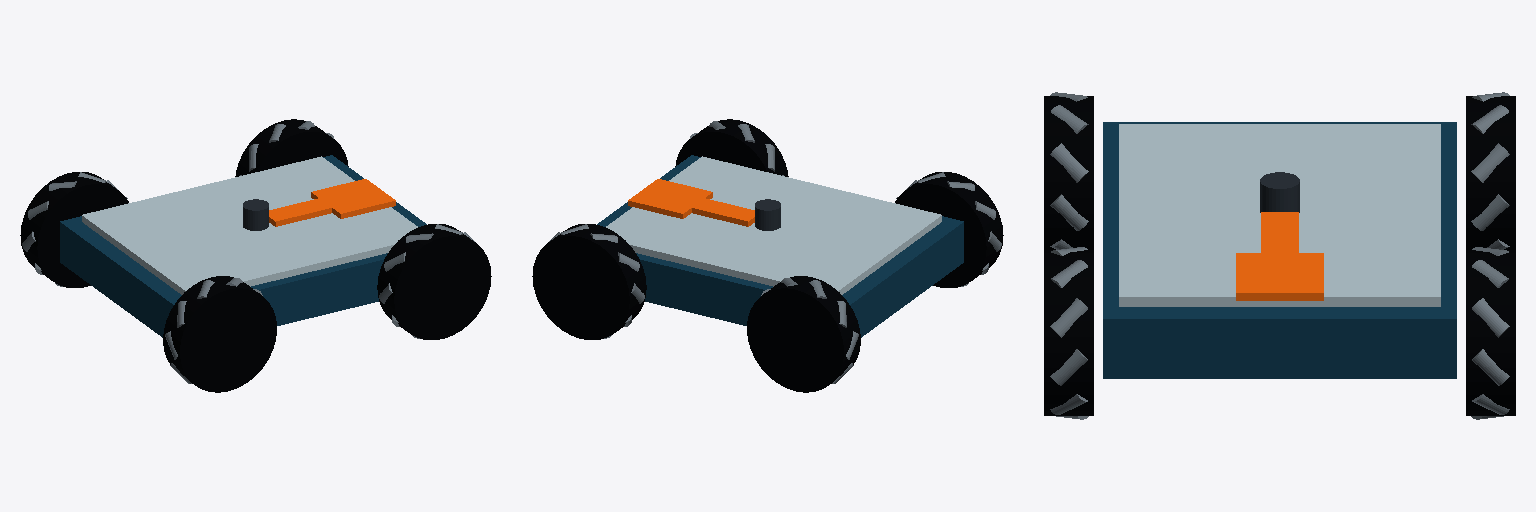
URDF robot description (robocon_physics_base):
<?xml version='1.0' encoding='utf-8'?>
<!--
  纯物理底盘（不可见）：四轮麦轮 + 悬挂，供 MuJoCo 和 TF 使用。
  可视外观由 models/br + urdf/br_display.urdf 提供；本文件不参与 RViz RobotModel 显示。
  物理参数沿用上游 slam_simulation 的等效麦轮模型。
-->
<robot name="robocon_physics_base">
  <link name="base_link">
    <inertial>
      <origin xyz="0 0 0.08" />
      <mass value="8.0" />
      <inertia ixx="0.1" iyy="0.16" izz="0.22" ixy="0" ixz="0" iyz="0" />
    </inertial>
    <visual>
      <origin xyz="0 0 0.08" rpy="0 0 0" />
      <geometry>
        <box size="0.42 0.32 0.06" />
      </geometry>
      <material name="paint_base_link_2">
        <color rgba="0.1 0.27 0.36 1" />
      </material>
    </visual>
    <collision>
      <origin xyz="0 0 0.08" rpy="0 0 0" />
      <geometry>
        <box size="0.42 0.32 0.06" />
      </geometry>
    </collision>
    <visual>
      <origin xyz="0 0 0.115" rpy="0 0 0" />
      <geometry>
        <box size="0.37 0.29 0.01" />
      </geometry>
      <material name="paint_base_link_4">
        <color rgba="0.72 0.79 0.82 1" />
      </material>
    </visual>
    <visual>
      <origin xyz="0.15 0 0.124" rpy="0 0 0" />
      <geometry>
        <box size="0.085 0.08 0.008" />
      </geometry>
      <material name="paint_base_link_5">
        <color rgba="1 0.45 0.08 1" />
      </material>
    </visual>
    <visual>
      <origin xyz="0.08 0 0.124" rpy="0 0 0" />
      <geometry>
        <box size="0.12 0.035 0.008" />
      </geometry>
      <material name="paint_base_link_6">
        <color rgba="1 0.45 0.08 1" />
      </material>
    </visual>
  </link>
  <link name="sensor_mast">
    <inertial>
      <origin xyz="0 0 0" />
      <mass value="0.05" />
      <inertia ixx="0.001" iyy="0.001" izz="0.001" ixy="0" ixz="0" iyz="0" />
    </inertial>
    <visual>
      <origin xyz="0 0 0" rpy="0 0 0" />
      <geometry>
        <cylinder radius="0.018" length="0.04" />
      </geometry>
      <material name="paint_sensor_mast_2">
        <color rgba="0.18 0.21 0.24 1" />
      </material>
    </visual>
  </link>
  <joint name="mast_mount" type="fixed">
    <parent link="base_link" />
    <child link="sensor_mast" />
    <origin xyz="0 0 0.13" rpy="0 0 0" />
  </joint>
  <link name="imu_link">
    <inertial>
      <origin xyz="0 0 0" />
      <mass value="0.01" />
      <inertia ixx="0.001" iyy="0.001" izz="0.001" ixy="0" ixz="0" iyz="0" />
    </inertial>
  </link>
  <joint name="imu_mount" type="fixed">
    <parent link="base_link" />
    <child link="imu_link" />
    <origin xyz="0 0 0.15" rpy="0 0 0" />
  </joint>
  <link name="lidar_link">
    <inertial>
      <origin xyz="0 0 0" />
      <mass value="0.265" />
      <inertia ixx="0.001" iyy="0.001" izz="0.001" ixy="0" ixz="0" iyz="0" />
    </inertial>
    <!-- 纯物理底盘：雷达外观由 br 的 meshes_sim 显示，这里不再加载 7MB 的 MID-360
         mesh；lidar_link 只保留 TF/惯性，供桥接和 TF 树使用。 -->
  </link>
  <joint name="lidar_mount" type="fixed">
    <parent link="imu_link" />
    <child link="lidar_link" />
    <origin xyz="0 0 0" rpy="0 0 0" />
  </joint>
  <link name="front_left_wheel">
    <inertial>
      <origin xyz="0 0 0" />
      <mass value="0.3" />
      <inertia ixx="0.0006" iyy="0.001" izz="0.0006" ixy="0" ixz="0" iyz="0" />
    </inertial>
    <visual>
      <origin xyz="0 0 0" rpy="1.5707963 0 0" />
      <geometry>
        <cylinder radius="0.075" length="0.045" />
      </geometry>
      <material name="paint_front_left_wheel_2">
        <color rgba="0.035 0.04 0.05 1" />
      </material>
    </visual>
    <collision>
      <origin xyz="0 0 0" rpy="1.5707963 0 0" />
      <geometry>
        <cylinder radius="0.075" length="0.045" />
      </geometry>
    </collision>
    <visual>
      <origin xyz="0.067 0 0" rpy="0.78539816 0 0" />
      <geometry>
        <cylinder radius="0.01" length="0.036" />
      </geometry>
      <material name="paint_front_left_wheel_4">
        <color rgba="0.45 0.49 0.52 1" />
      </material>
    </visual>
    <visual>
      <origin xyz="0.054204139 0 0.039381612" rpy="0.78539816 -0.62831853 0" />
      <geometry>
        <cylinder radius="0.01" length="0.036" />
      </geometry>
      <material name="paint_front_left_wheel_5">
        <color rgba="0.45 0.49 0.52 1" />
      </material>
    </visual>
    <visual>
      <origin xyz="0.020704139 0 0.063720787" rpy="0.78539816 -1.2566371 5.5511151e-17" />
      <geometry>
        <cylinder radius="0.01" length="0.036" />
      </geometry>
      <material name="paint_front_left_wheel_6">
        <color rgba="0.45 0.49 0.52 1" />
      </material>
    </visual>
    <visual>
      <origin xyz="-0.020704139 0 0.063720787" rpy="-2.3561945 -1.2566371 -3.1415927" />
      <geometry>
        <cylinder radius="0.01" length="0.036" />
      </geometry>
      <material name="paint_front_left_wheel_7">
        <color rgba="0.45 0.49 0.52 1" />
      </material>
    </visual>
    <visual>
      <origin xyz="-0.054204139 0 0.039381612" rpy="-2.3561945 -0.62831853 -3.1415927" />
      <geometry>
        <cylinder radius="0.01" length="0.036" />
      </geometry>
      <material name="paint_front_left_wheel_8">
        <color rgba="0.45 0.49 0.52 1" />
      </material>
    </visual>
    <visual>
      <origin xyz="-0.067 0 8.2051336e-18" rpy="-2.3561945 0 -3.1415927" />
      <geometry>
        <cylinder radius="0.01" length="0.036" />
      </geometry>
      <material name="paint_front_left_wheel_9">
        <color rgba="0.45 0.49 0.52 1" />
      </material>
    </visual>
    <visual>
      <origin xyz="-0.054204139 0 -0.039381612" rpy="-2.3561945 0.62831853 -3.1415927" />
      <geometry>
        <cylinder radius="0.01" length="0.036" />
      </geometry>
      <material name="paint_front_left_wheel_10">
        <color rgba="0.45 0.49 0.52 1" />
      </material>
    </visual>
    <visual>
      <origin xyz="-0.020704139 0 -0.063720787" rpy="-2.3561945 1.2566371 3.1415927" />
      <geometry>
        <cylinder radius="0.01" length="0.036" />
      </geometry>
      <material name="paint_front_left_wheel_11">
        <color rgba="0.45 0.49 0.52 1" />
      </material>
    </visual>
    <visual>
      <origin xyz="0.020704139 0 -0.063720787" rpy="0.78539816 1.2566371 2.220446e-16" />
      <geometry>
        <cylinder radius="0.01" length="0.036" />
      </geometry>
      <material name="paint_front_left_wheel_12">
        <color rgba="0.45 0.49 0.52 1" />
      </material>
    </visual>
    <visual>
      <origin xyz="0.054204139 0 -0.039381612" rpy="0.78539816 0.62831853 -5.5511151e-17" />
      <geometry>
        <cylinder radius="0.01" length="0.036" />
      </geometry>
      <material name="paint_front_left_wheel_13">
        <color rgba="0.45 0.49 0.52 1" />
      </material>
    </visual>
  </link>
  <joint name="front_left_wheel_joint" type="continuous">
    <parent link="base_link" />
    <child link="front_left_wheel" />
    <origin xyz="0.165 0.19 0.075" rpy="0 0 0" />
    <axis xyz="0 1 0" />
    <limit effort="2" velocity="15" />
  </joint>
  <link name="front_right_wheel">
    <inertial>
      <origin xyz="0 0 0" />
      <mass value="0.3" />
      <inertia ixx="0.0006" iyy="0.001" izz="0.0006" ixy="0" ixz="0" iyz="0" />
    </inertial>
    <visual>
      <origin xyz="0 0 0" rpy="1.5707963 0 0" />
      <geometry>
        <cylinder radius="0.075" length="0.045" />
      </geometry>
      <material name="paint_front_right_wheel_2">
        <color rgba="0.035 0.04 0.05 1" />
      </material>
    </visual>
    <collision>
      <origin xyz="0 0 0" rpy="1.5707963 0 0" />
      <geometry>
        <cylinder radius="0.075" length="0.045" />
      </geometry>
    </collision>
    <visual>
      <origin xyz="0.067 0 0" rpy="-0.78539816 0 0" />
      <geometry>
        <cylinder radius="0.01" length="0.036" />
      </geometry>
      <material name="paint_front_right_wheel_4">
        <color rgba="0.45 0.49 0.52 1" />
      </material>
    </visual>
    <visual>
      <origin xyz="0.054204139 0 0.039381612" rpy="-0.78539816 -0.62831853 0" />
      <geometry>
        <cylinder radius="0.01" length="0.036" />
      </geometry>
      <material name="paint_front_right_wheel_5">
        <color rgba="0.45 0.49 0.52 1" />
      </material>
    </visual>
    <visual>
      <origin xyz="0.020704139 0 0.063720787" rpy="-0.78539816 -1.2566371 -5.5511151e-17" />
      <geometry>
        <cylinder radius="0.01" length="0.036" />
      </geometry>
      <material name="paint_front_right_wheel_6">
        <color rgba="0.45 0.49 0.52 1" />
      </material>
    </visual>
    <visual>
      <origin xyz="-0.020704139 0 0.063720787" rpy="2.3561945 -1.2566371 3.1415927" />
      <geometry>
        <cylinder radius="0.01" length="0.036" />
      </geometry>
      <material name="paint_front_right_wheel_7">
        <color rgba="0.45 0.49 0.52 1" />
      </material>
    </visual>
    <visual>
      <origin xyz="-0.054204139 0 0.039381612" rpy="2.3561945 -0.62831853 3.1415927" />
      <geometry>
        <cylinder radius="0.01" length="0.036" />
      </geometry>
      <material name="paint_front_right_wheel_8">
        <color rgba="0.45 0.49 0.52 1" />
      </material>
    </visual>
    <visual>
      <origin xyz="-0.067 0 8.2051336e-18" rpy="2.3561945 0 3.1415927" />
      <geometry>
        <cylinder radius="0.01" length="0.036" />
      </geometry>
      <material name="paint_front_right_wheel_9">
        <color rgba="0.45 0.49 0.52 1" />
      </material>
    </visual>
    <visual>
      <origin xyz="-0.054204139 0 -0.039381612" rpy="2.3561945 0.62831853 3.1415927" />
      <geometry>
        <cylinder radius="0.01" length="0.036" />
      </geometry>
      <material name="paint_front_right_wheel_10">
        <color rgba="0.45 0.49 0.52 1" />
      </material>
    </visual>
    <visual>
      <origin xyz="-0.020704139 0 -0.063720787" rpy="2.3561945 1.2566371 -3.1415927" />
      <geometry>
        <cylinder radius="0.01" length="0.036" />
      </geometry>
      <material name="paint_front_right_wheel_11">
        <color rgba="0.45 0.49 0.52 1" />
      </material>
    </visual>
    <visual>
      <origin xyz="0.020704139 0 -0.063720787" rpy="-0.78539816 1.2566371 -2.220446e-16" />
      <geometry>
        <cylinder radius="0.01" length="0.036" />
      </geometry>
      <material name="paint_front_right_wheel_12">
        <color rgba="0.45 0.49 0.52 1" />
      </material>
    </visual>
    <visual>
      <origin xyz="0.054204139 0 -0.039381612" rpy="-0.78539816 0.62831853 5.5511151e-17" />
      <geometry>
        <cylinder radius="0.01" length="0.036" />
      </geometry>
      <material name="paint_front_right_wheel_13">
        <color rgba="0.45 0.49 0.52 1" />
      </material>
    </visual>
  </link>
  <joint name="front_right_wheel_joint" type="continuous">
    <parent link="base_link" />
    <child link="front_right_wheel" />
    <origin xyz="0.165 -0.19 0.075" rpy="0 0 0" />
    <axis xyz="0 1 0" />
    <limit effort="2" velocity="15" />
  </joint>
  <link name="rear_left_wheel">
    <inertial>
      <origin xyz="0 0 0" />
      <mass value="0.3" />
      <inertia ixx="0.0006" iyy="0.001" izz="0.0006" ixy="0" ixz="0" iyz="0" />
    </inertial>
    <visual>
      <origin xyz="0 0 0" rpy="1.5707963 0 0" />
      <geometry>
        <cylinder radius="0.075" length="0.045" />
      </geometry>
      <material name="paint_rear_left_wheel_2">
        <color rgba="0.035 0.04 0.05 1" />
      </material>
    </visual>
    <collision>
      <origin xyz="0 0 0" rpy="1.5707963 0 0" />
      <geometry>
        <cylinder radius="0.075" length="0.045" />
      </geometry>
    </collision>
    <visual>
      <origin xyz="0.067 0 0" rpy="-0.78539816 0 0" />
      <geometry>
        <cylinder radius="0.01" length="0.036" />
      </geometry>
      <material name="paint_rear_left_wheel_4">
        <color rgba="0.45 0.49 0.52 1" />
      </material>
    </visual>
    <visual>
      <origin xyz="0.054204139 0 0.039381612" rpy="-0.78539816 -0.62831853 0" />
      <geometry>
        <cylinder radius="0.01" length="0.036" />
      </geometry>
      <material name="paint_rear_left_wheel_5">
        <color rgba="0.45 0.49 0.52 1" />
      </material>
    </visual>
    <visual>
      <origin xyz="0.020704139 0 0.063720787" rpy="-0.78539816 -1.2566371 -5.5511151e-17" />
      <geometry>
        <cylinder radius="0.01" length="0.036" />
      </geometry>
      <material name="paint_rear_left_wheel_6">
        <color rgba="0.45 0.49 0.52 1" />
      </material>
    </visual>
    <visual>
      <origin xyz="-0.020704139 0 0.063720787" rpy="2.3561945 -1.2566371 3.1415927" />
      <geometry>
        <cylinder radius="0.01" length="0.036" />
      </geometry>
      <material name="paint_rear_left_wheel_7">
        <color rgba="0.45 0.49 0.52 1" />
      </material>
    </visual>
    <visual>
      <origin xyz="-0.054204139 0 0.039381612" rpy="2.3561945 -0.62831853 3.1415927" />
      <geometry>
        <cylinder radius="0.01" length="0.036" />
      </geometry>
      <material name="paint_rear_left_wheel_8">
        <color rgba="0.45 0.49 0.52 1" />
      </material>
    </visual>
    <visual>
      <origin xyz="-0.067 0 8.2051336e-18" rpy="2.3561945 0 3.1415927" />
      <geometry>
        <cylinder radius="0.01" length="0.036" />
      </geometry>
      <material name="paint_rear_left_wheel_9">
        <color rgba="0.45 0.49 0.52 1" />
      </material>
    </visual>
    <visual>
      <origin xyz="-0.054204139 0 -0.039381612" rpy="2.3561945 0.62831853 3.1415927" />
      <geometry>
        <cylinder radius="0.01" length="0.036" />
      </geometry>
      <material name="paint_rear_left_wheel_10">
        <color rgba="0.45 0.49 0.52 1" />
      </material>
    </visual>
    <visual>
      <origin xyz="-0.020704139 0 -0.063720787" rpy="2.3561945 1.2566371 -3.1415927" />
      <geometry>
        <cylinder radius="0.01" length="0.036" />
      </geometry>
      <material name="paint_rear_left_wheel_11">
        <color rgba="0.45 0.49 0.52 1" />
      </material>
    </visual>
    <visual>
      <origin xyz="0.020704139 0 -0.063720787" rpy="-0.78539816 1.2566371 -2.220446e-16" />
      <geometry>
        <cylinder radius="0.01" length="0.036" />
      </geometry>
      <material name="paint_rear_left_wheel_12">
        <color rgba="0.45 0.49 0.52 1" />
      </material>
    </visual>
    <visual>
      <origin xyz="0.054204139 0 -0.039381612" rpy="-0.78539816 0.62831853 5.5511151e-17" />
      <geometry>
        <cylinder radius="0.01" length="0.036" />
      </geometry>
      <material name="paint_rear_left_wheel_13">
        <color rgba="0.45 0.49 0.52 1" />
      </material>
    </visual>
  </link>
  <joint name="rear_left_wheel_joint" type="continuous">
    <parent link="base_link" />
    <child link="rear_left_wheel" />
    <origin xyz="-0.165 0.19 0.075" rpy="0 0 0" />
    <axis xyz="0 1 0" />
    <limit effort="2" velocity="15" />
  </joint>
  <link name="rear_right_wheel">
    <inertial>
      <origin xyz="0 0 0" />
      <mass value="0.3" />
      <inertia ixx="0.0006" iyy="0.001" izz="0.0006" ixy="0" ixz="0" iyz="0" />
    </inertial>
    <visual>
      <origin xyz="0 0 0" rpy="1.5707963 0 0" />
      <geometry>
        <cylinder radius="0.075" length="0.045" />
      </geometry>
      <material name="paint_rear_right_wheel_2">
        <color rgba="0.035 0.04 0.05 1" />
      </material>
    </visual>
    <collision>
      <origin xyz="0 0 0" rpy="1.5707963 0 0" />
      <geometry>
        <cylinder radius="0.075" length="0.045" />
      </geometry>
    </collision>
    <visual>
      <origin xyz="0.067 0 0" rpy="0.78539816 0 0" />
      <geometry>
        <cylinder radius="0.01" length="0.036" />
      </geometry>
      <material name="paint_rear_right_wheel_4">
        <color rgba="0.45 0.49 0.52 1" />
      </material>
    </visual>
    <visual>
      <origin xyz="0.054204139 0 0.039381612" rpy="0.78539816 -0.62831853 0" />
      <geometry>
        <cylinder radius="0.01" length="0.036" />
      </geometry>
      <material name="paint_rear_right_wheel_5">
        <color rgba="0.45 0.49 0.52 1" />
      </material>
    </visual>
    <visual>
      <origin xyz="0.020704139 0 0.063720787" rpy="0.78539816 -1.2566371 5.5511151e-17" />
      <geometry>
        <cylinder radius="0.01" length="0.036" />
      </geometry>
      <material name="paint_rear_right_wheel_6">
        <color rgba="0.45 0.49 0.52 1" />
      </material>
    </visual>
    <visual>
      <origin xyz="-0.020704139 0 0.063720787" rpy="-2.3561945 -1.2566371 -3.1415927" />
      <geometry>
        <cylinder radius="0.01" length="0.036" />
      </geometry>
      <material name="paint_rear_right_wheel_7">
        <color rgba="0.45 0.49 0.52 1" />
      </material>
    </visual>
    <visual>
      <origin xyz="-0.054204139 0 0.039381612" rpy="-2.3561945 -0.62831853 -3.1415927" />
      <geometry>
        <cylinder radius="0.01" length="0.036" />
      </geometry>
      <material name="paint_rear_right_wheel_8">
        <color rgba="0.45 0.49 0.52 1" />
      </material>
    </visual>
    <visual>
      <origin xyz="-0.067 0 8.2051336e-18" rpy="-2.3561945 0 -3.1415927" />
      <geometry>
        <cylinder radius="0.01" length="0.036" />
      </geometry>
      <material name="paint_rear_right_wheel_9">
        <color rgba="0.45 0.49 0.52 1" />
      </material>
    </visual>
    <visual>
      <origin xyz="-0.054204139 0 -0.039381612" rpy="-2.3561945 0.62831853 -3.1415927" />
      <geometry>
        <cylinder radius="0.01" length="0.036" />
      </geometry>
      <material name="paint_rear_right_wheel_10">
        <color rgba="0.45 0.49 0.52 1" />
      </material>
    </visual>
    <visual>
      <origin xyz="-0.020704139 0 -0.063720787" rpy="-2.3561945 1.2566371 3.1415927" />
      <geometry>
        <cylinder radius="0.01" length="0.036" />
      </geometry>
      <material name="paint_rear_right_wheel_11">
        <color rgba="0.45 0.49 0.52 1" />
      </material>
    </visual>
    <visual>
      <origin xyz="0.020704139 0 -0.063720787" rpy="0.78539816 1.2566371 2.220446e-16" />
      <geometry>
        <cylinder radius="0.01" length="0.036" />
      </geometry>
      <material name="paint_rear_right_wheel_12">
        <color rgba="0.45 0.49 0.52 1" />
      </material>
    </visual>
    <visual>
      <origin xyz="0.054204139 0 -0.039381612" rpy="0.78539816 0.62831853 -5.5511151e-17" />
      <geometry>
        <cylinder radius="0.01" length="0.036" />
      </geometry>
      <material name="paint_rear_right_wheel_13">
        <color rgba="0.45 0.49 0.52 1" />
      </material>
    </visual>
  </link>
  <joint name="rear_right_wheel_joint" type="continuous">
    <parent link="base_link" />
    <child link="rear_right_wheel" />
    <origin xyz="-0.165 -0.19 0.075" rpy="0 0 0" />
    <axis xyz="0 1 0" />
    <limit effort="2" velocity="15" />
  </joint>
</robot>

--- What the picture shows (computed from the rendered views, not written in the file) ---
The picture shows the robot from 3 angles, left to right: view 1: azimuth 30°, elevation 25°; view 2: azimuth 150°, elevation 25°; view 3: azimuth 270°, elevation 25°; orthographic projection.
Robot: robocon_physics_base — 8 links, 7 joints (4 continuous, 3 fixed); root link base_link; default pose: every joint at zero.
Links seen in each view (by area): view 1: base_link, rear_right_wheel, front_right_wheel, rear_left_wheel, front_left_wheel, sensor_mast; view 2: base_link, rear_left_wheel, front_left_wheel, rear_right_wheel, front_right_wheel, sensor_mast; view 3: base_link, front_left_wheel, front_right_wheel, rear_left_wheel, rear_right_wheel, sensor_mast.
Boxes of the visible links, <box> form: base_link: <box>60,155,426,337</box>; rear_right_wheel: <box>163,276,276,392</box>; front_right_wheel: <box>377,224,491,339</box>; rear_left_wheel: <box>20,172,128,287</box>; front_left_wheel: <box>235,119,348,176</box>; sensor_mast: <box>243,199,268,230</box>; base_link: <box>597,155,963,337</box>; rear_left_wheel: <box>747,276,860,392</box>; front_left_wheel: <box>532,224,646,339</box>; rear_right_wheel: <box>895,172,1003,287</box>; front_right_wheel: <box>675,119,788,176</box>; sensor_mast: <box>755,199,780,230</box>; base_link: <box>1103,122,1456,378</box>; front_left_wheel: <box>1466,247,1515,419</box>; front_right_wheel: <box>1044,247,1093,419</box>; rear_left_wheel: <box>1466,92,1515,249</box>; rear_right_wheel: <box>1044,92,1093,249</box>; sensor_mast: <box>1260,172,1299,212</box>.
Bounding box of the posed robot: 0.484 × 0.425 × 0.1548 m (x, y, z).
Geometry: primitives only (box / cylinder / sphere), no mesh files.
